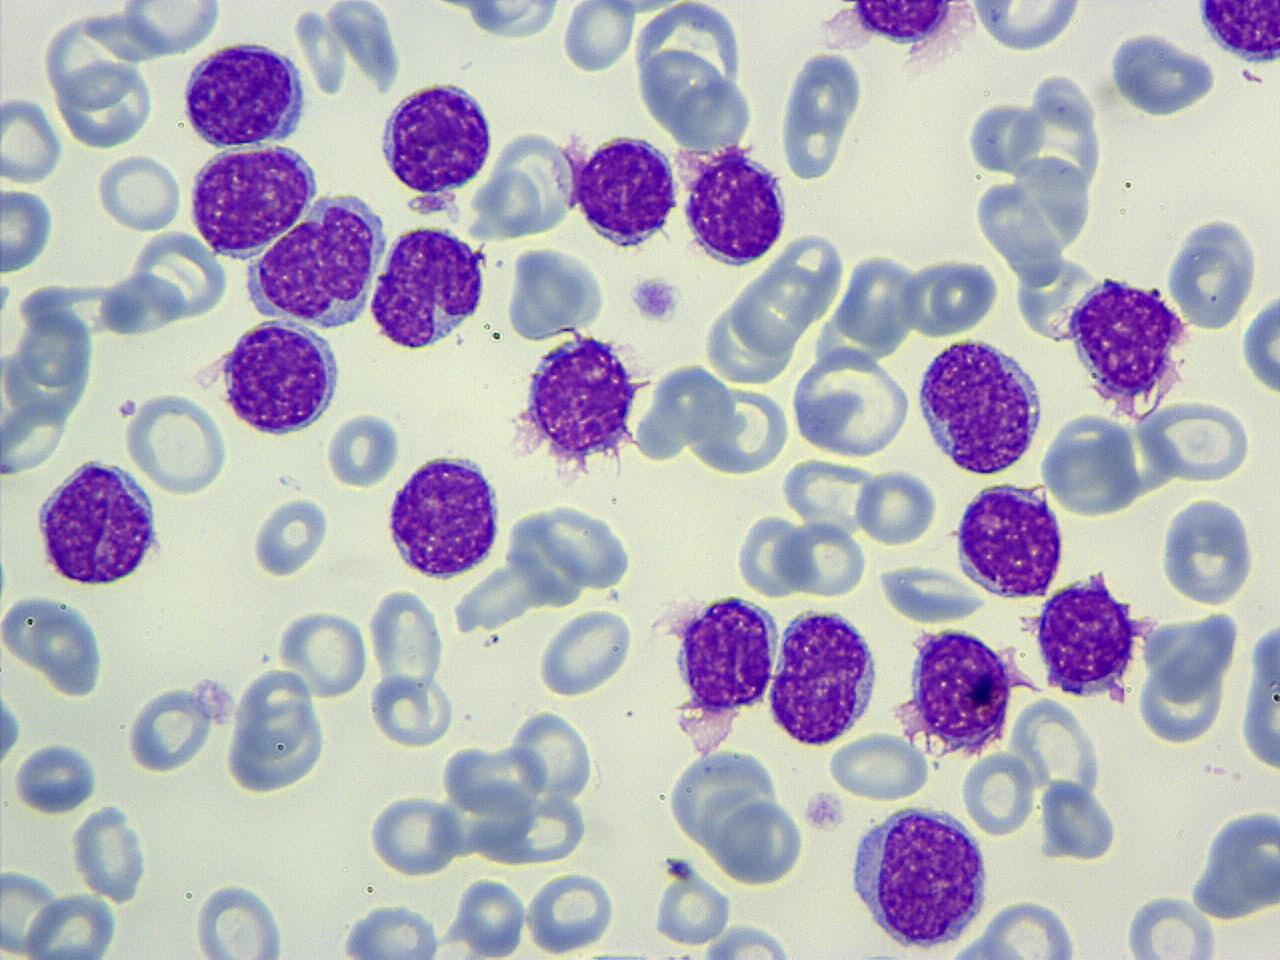Platelets: (70, 804, 152, 902), (250, 492, 329, 580), (12, 742, 101, 814), (455, 1, 564, 42), (628, 272, 681, 325), (0, 688, 23, 770), (800, 790, 844, 832), (0, 275, 14, 318), (118, 397, 140, 419)
RBC: (631, 2, 755, 143), (1131, 604, 1241, 746), (222, 663, 330, 797), (789, 346, 913, 458), (1188, 800, 1280, 948), (775, 47, 867, 185), (123, 390, 230, 498), (1157, 494, 1259, 607), (1041, 408, 1145, 518), (1165, 211, 1257, 334), (1136, 395, 1254, 486), (525, 500, 636, 594), (51, 57, 156, 150), (534, 604, 634, 700), (706, 795, 808, 888), (275, 606, 371, 700), (366, 584, 446, 696), (132, 228, 228, 321), (125, 681, 216, 775), (524, 866, 618, 956), (780, 456, 880, 540), (902, 252, 998, 339), (25, 594, 110, 692), (70, 802, 151, 904), (510, 706, 596, 801), (367, 792, 459, 880), (191, 878, 286, 960), (1037, 775, 1121, 866), (828, 730, 930, 803), (776, 518, 868, 598), (248, 493, 332, 580), (93, 151, 182, 233), (651, 860, 733, 948), (960, 747, 1036, 839), (854, 466, 940, 547), (367, 668, 454, 748), (735, 510, 810, 600), (876, 562, 984, 624), (972, 899, 1083, 959), (20, 893, 120, 959), (11, 742, 100, 816), (1121, 892, 1219, 958), (966, 0, 1085, 54), (456, 873, 528, 958), (324, 410, 400, 490), (334, 902, 441, 958), (0, 394, 71, 478), (118, 0, 221, 57), (0, 92, 65, 182), (560, 1, 634, 75), (0, 866, 60, 955), (292, 6, 349, 98), (446, 0, 573, 40), (0, 184, 55, 275), (1240, 290, 1280, 400), (694, 924, 802, 958)
WBC: (954, 65, 1114, 275), (844, 800, 993, 953), (515, 326, 658, 484), (242, 190, 388, 332), (913, 333, 1046, 480), (0, 282, 100, 474), (1066, 273, 1192, 421), (32, 455, 166, 589), (366, 220, 491, 357), (764, 604, 882, 749), (182, 141, 319, 264), (897, 622, 1017, 762), (664, 740, 802, 860), (1030, 568, 1150, 706), (810, 0, 999, 85), (385, 448, 506, 580), (218, 317, 346, 441), (1136, 600, 1240, 746), (675, 140, 793, 268), (952, 476, 1069, 602), (181, 39, 310, 152), (376, 78, 497, 198), (222, 663, 332, 791), (572, 131, 682, 252), (673, 592, 782, 714), (776, 44, 869, 184), (1158, 492, 1258, 609), (1166, 211, 1264, 329), (1186, 802, 1280, 924), (1105, 27, 1219, 119), (706, 794, 808, 886), (52, 63, 155, 148), (126, 680, 217, 775), (1237, 610, 1280, 784), (11, 742, 101, 816), (968, 0, 1086, 54), (333, 902, 444, 958), (1195, 1, 1280, 70), (438, 0, 578, 41), (1238, 288, 1280, 402)
